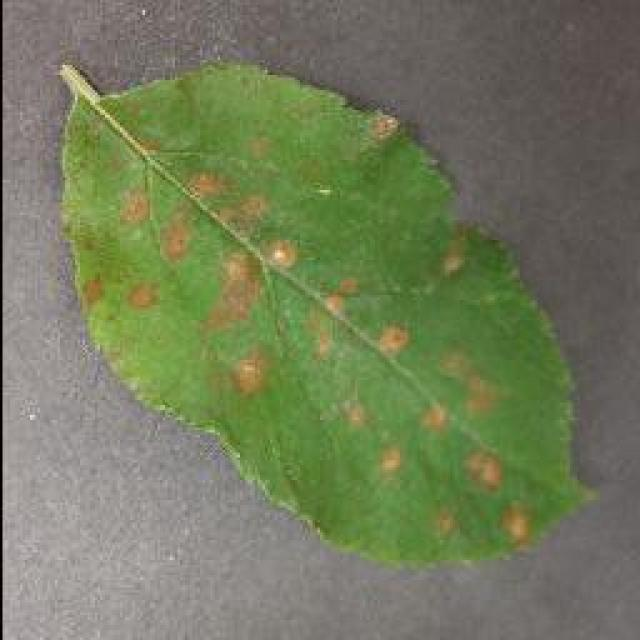apple cedar apple rust: (55, 55, 597, 570)
